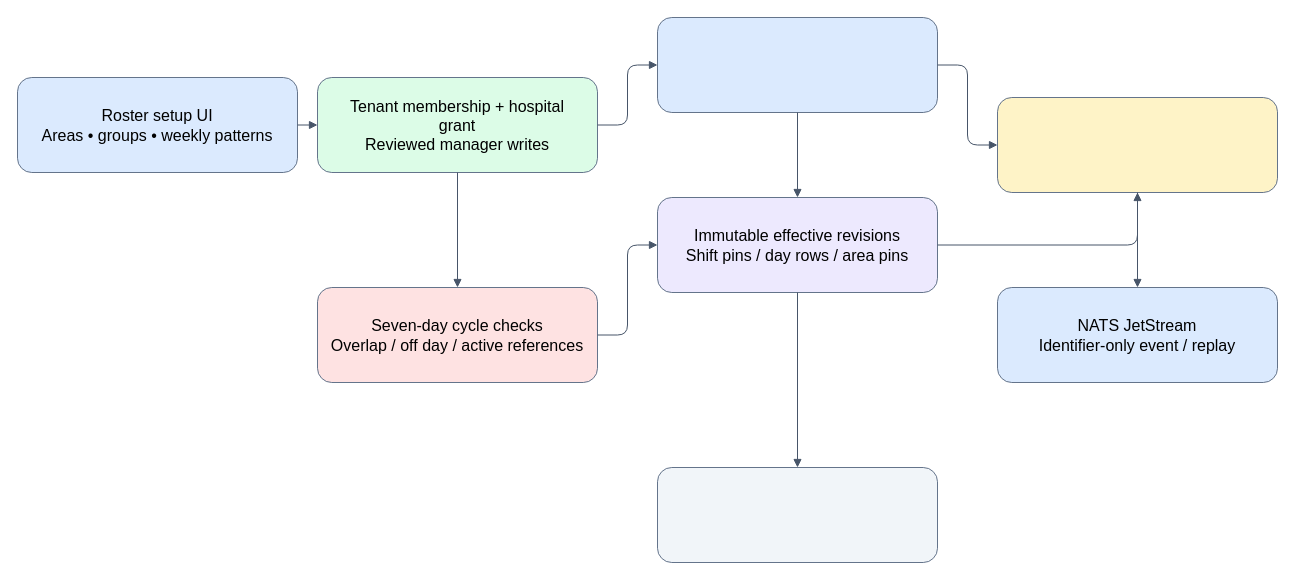
Image size: 1295x580. Some labels were removed from this diagram. The shapes that lost their labels are listed below. From the top down, each one's centre as x and y in pixels, then its label:
(x=797, y=64): Stable configuration head UUID / kind / code / expected version
(x=1137, y=144): Atomic PostgreSQL transaction Forced RLS + audit + outbox
(x=797, y=514): Subsequent dated roster work Timezone • leave • freeze • corrections
